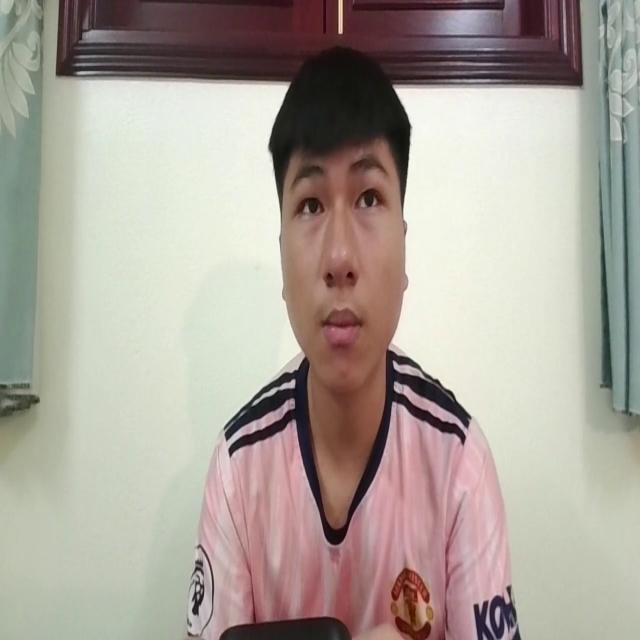student: (192, 28, 520, 640)
